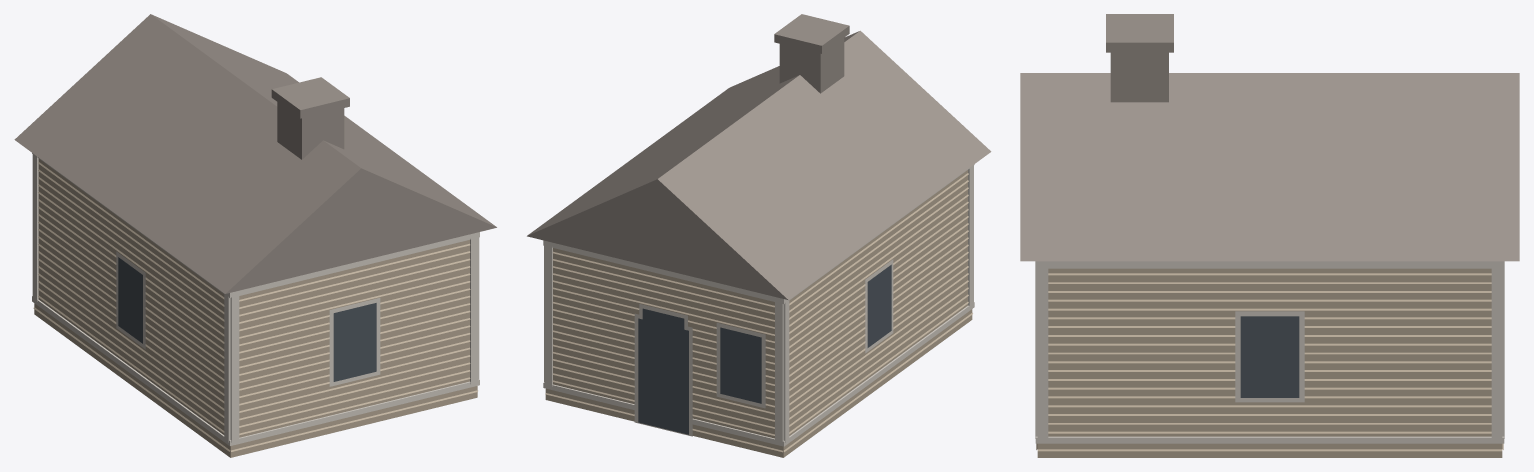
File: inf_tailor_shop__inferred_1835.glb
The picture shows the model from 3 angles, left to right: view 1: azimuth 30°, elevation 25°; view 2: azimuth 150°, elevation 25°; view 3: azimuth 270°, elevation 25°; orthographic projection. The views are drawn at different scales.
Visible parts, largest first — view 1: inf_tailor_shop__inferred_1835; view 2: inf_tailor_shop__inferred_1835; view 3: inf_tailor_shop__inferred_1835.
Part boxes in pixels (x1=…): inf_tailor_shop__inferred_1835: x1=14, y1=14, x2=496, y2=457; inf_tailor_shop__inferred_1835: x1=527, y1=14, x2=991, y2=457; inf_tailor_shop__inferred_1835: x1=1020, y1=14, x2=1519, y2=457.
Bounding box in the file's own units: 5.38 × 5.71 × 7.21.
